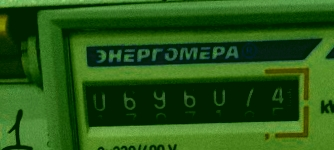0: (88, 87, 108, 112), (210, 82, 227, 108)
4: (268, 81, 285, 103)
5: (270, 106, 286, 121)
6: (181, 83, 199, 109), (120, 86, 138, 111)
7: (240, 82, 258, 108)
9: (150, 85, 167, 111)
screen: (72, 63, 313, 138)
